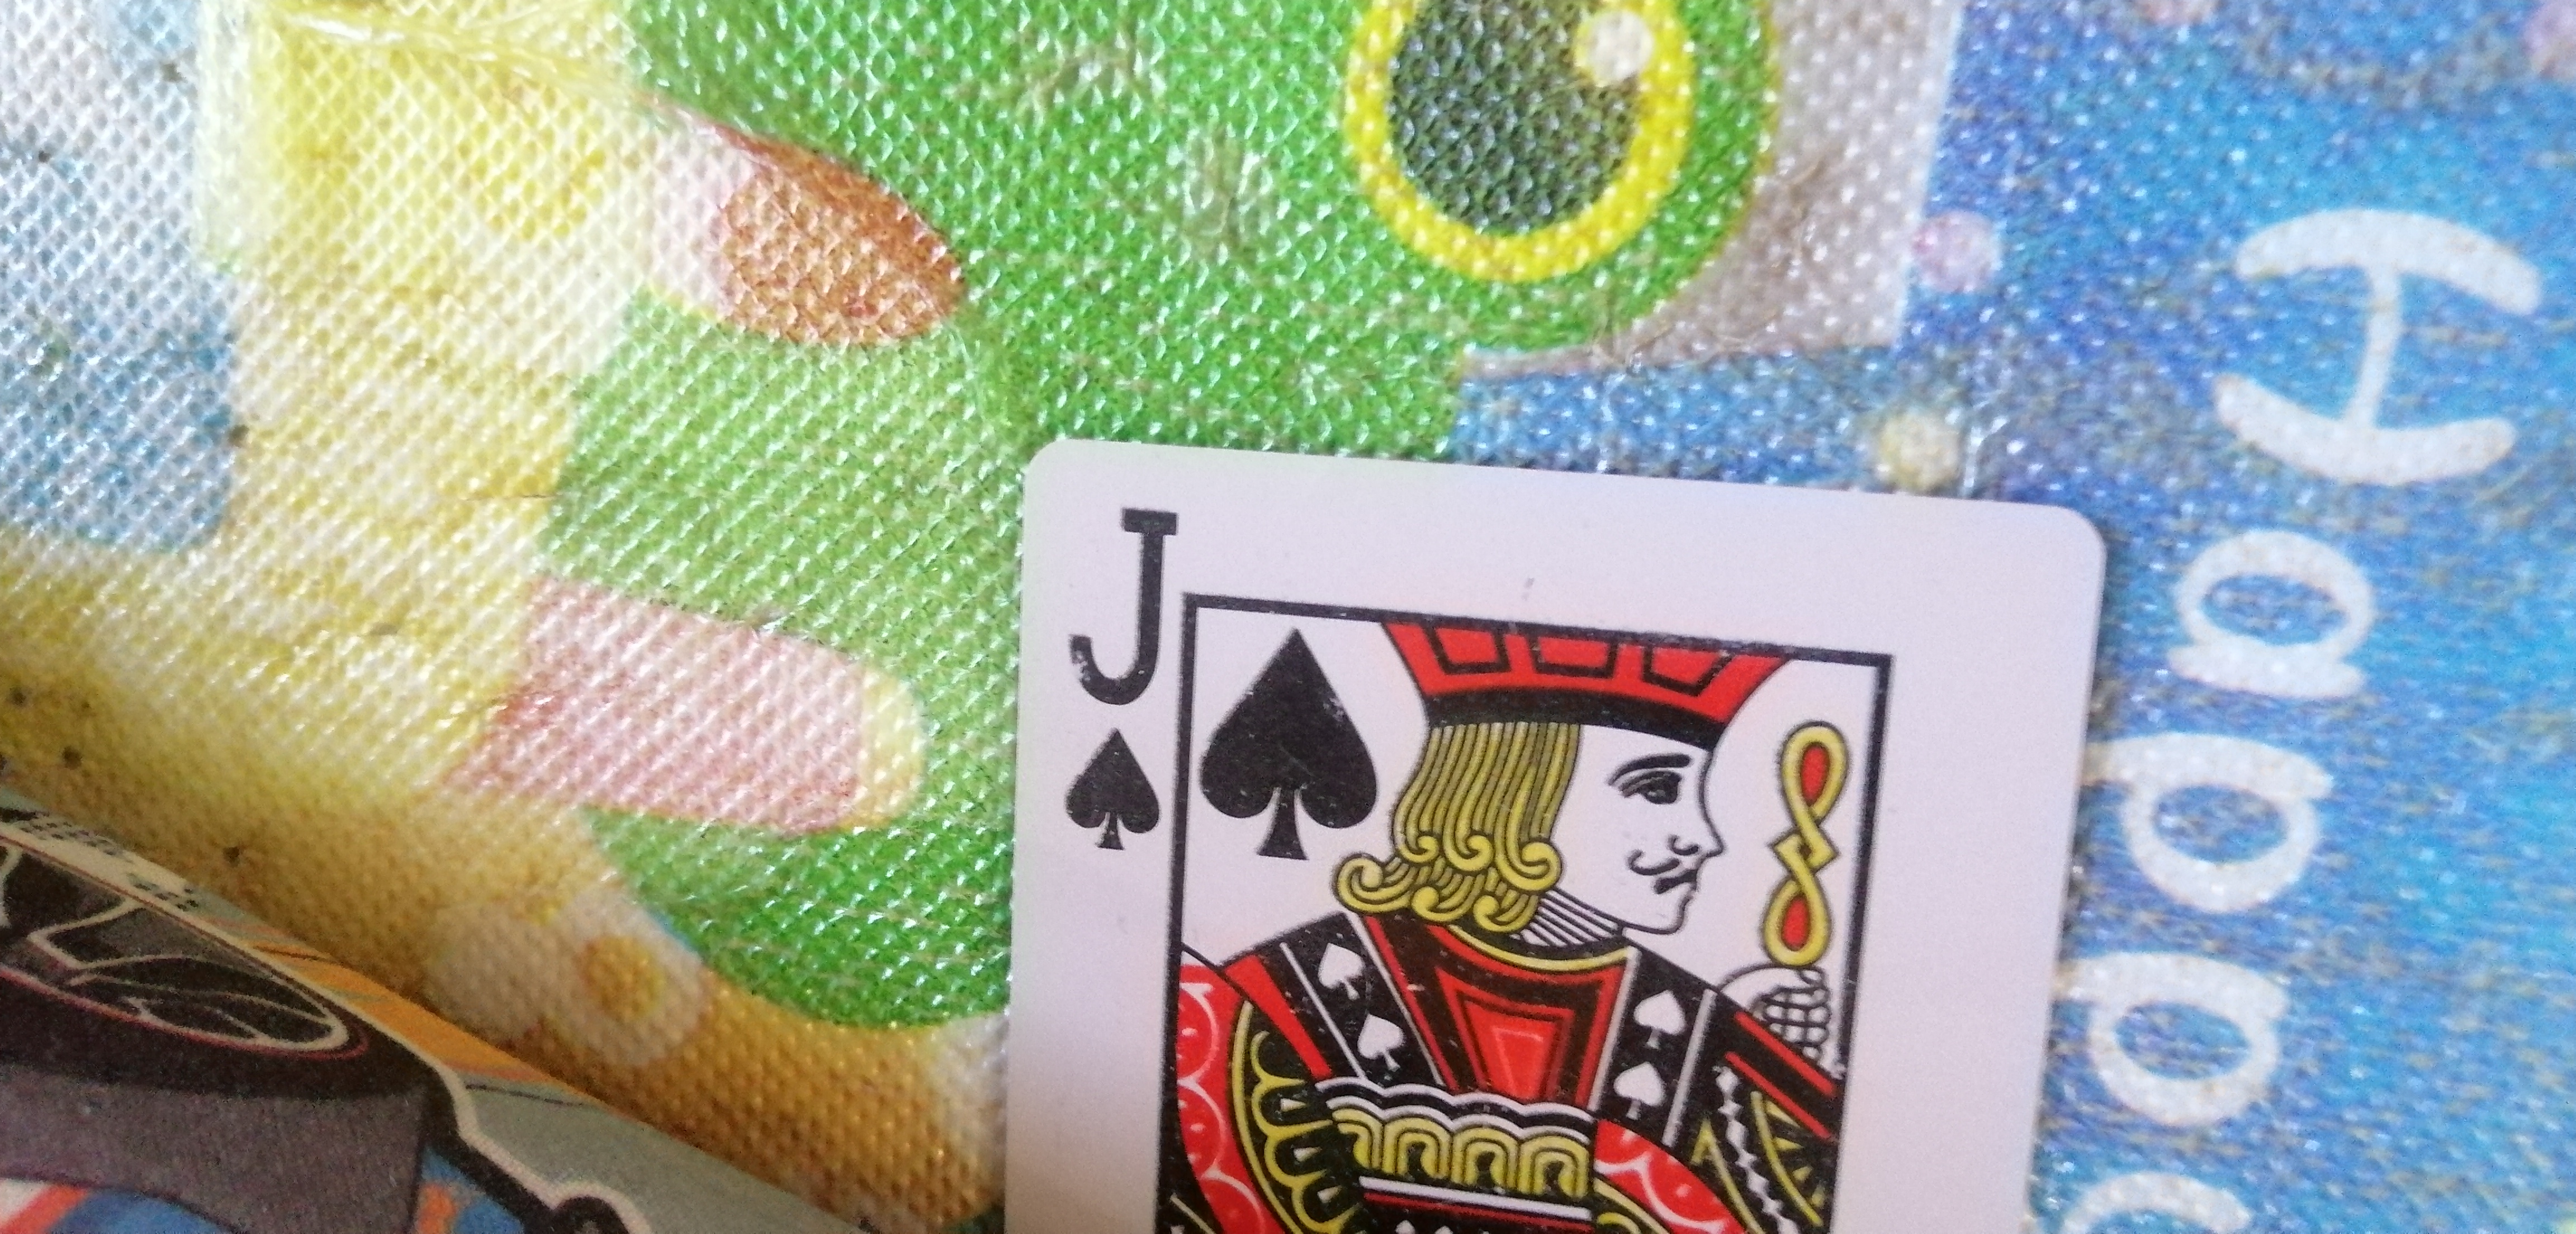jack: (964, 401, 2093, 1234)
